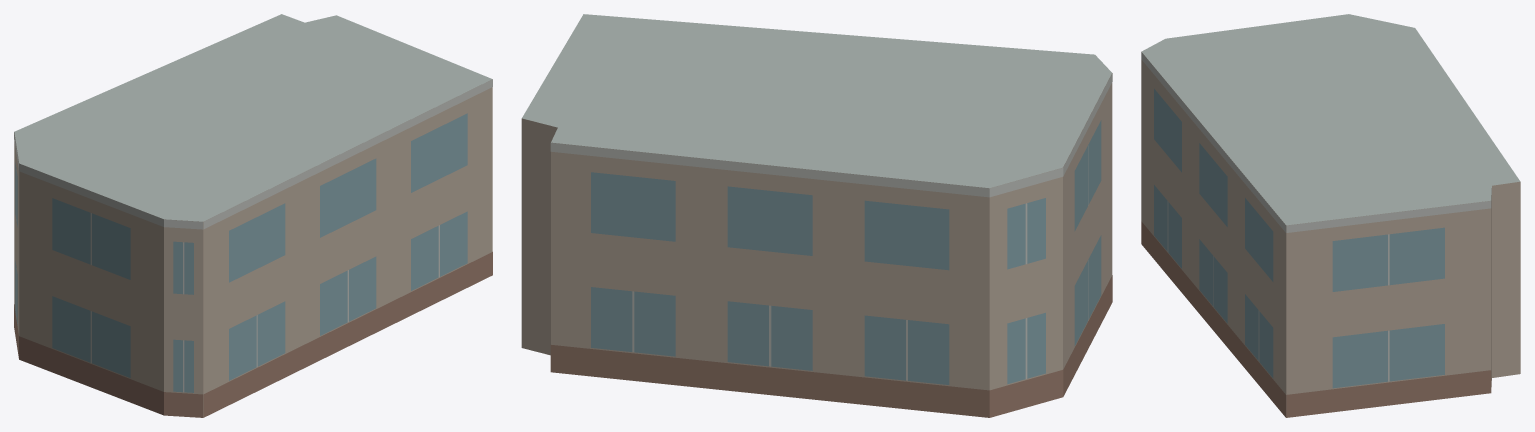
File: survey-upis-32573611.glb
The picture shows the model from 3 angles, left to right: view 1: azimuth 30°, elevation 25°; view 2: azimuth 150°, elevation 25°; view 3: azimuth 270°, elevation 25°; orthographic projection. The views are drawn at different scales.
Parts seen in each view (by area): view 1: survey-upis-32573611.tmp; view 2: survey-upis-32573611.tmp; view 3: survey-upis-32573611.tmp.
Boxes of the visible parts, x1,y1,x2,y2 form: survey-upis-32573611.tmp: (14,14,492,417); survey-upis-32573611.tmp: (521,14,1112,417); survey-upis-32573611.tmp: (1141,14,1520,417).
Bounding box in the file's own units: 14.38 × 6.1 × 10.9.
